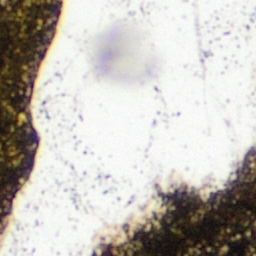cement_matrix: (98, 155, 255, 255), (0, 0, 59, 228)
gravel_crushed_stones: (0, 0, 255, 255)
